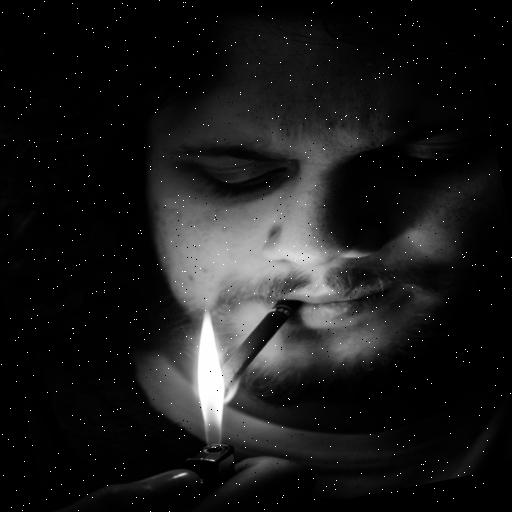dataset-deteksi-merokok: (114, 131, 424, 486)
